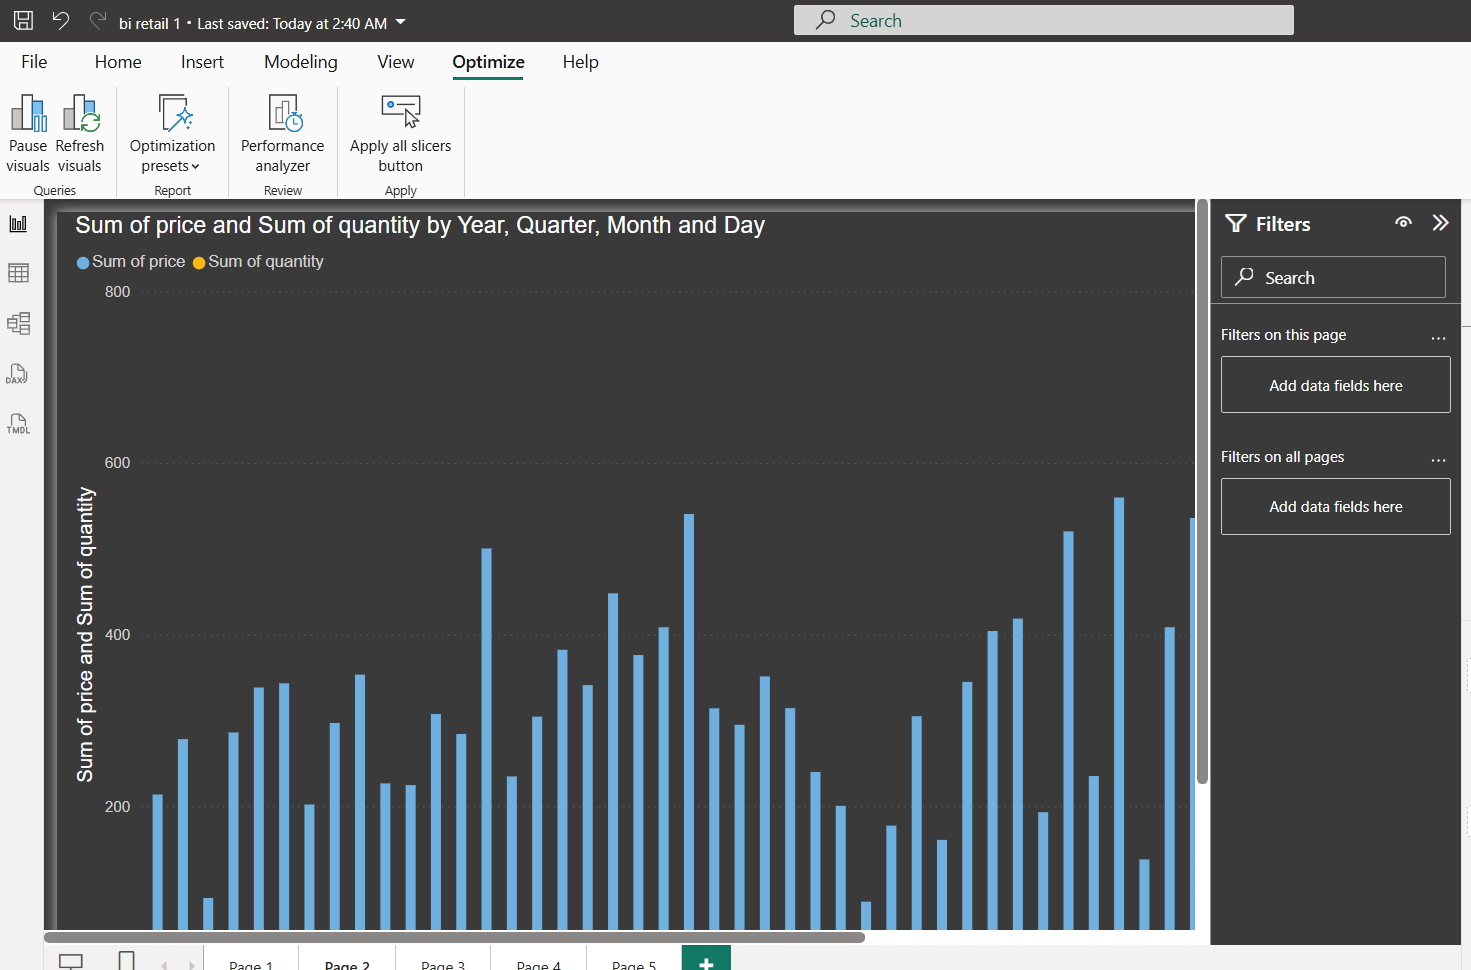

The page's visual inventory and layout, read from the dashboard file:
{"tool":"powerbi","page":{"name":"Page 1","canvas":[1280,720],"ordinal":0},"visuals":[{"type":"columnChart","fields":{"Y":["Sum(run-1752526286075-part-r-00000.price)","Sum(run-1752526286075-part-r-00000.quantity)"],"Category":["run-1752526286075-part-r-00000.country"]},"box":[9.6,0,1270.7,655.9],"z":0}]}

Visuals, with their boxes on the page's 1280x720 design canvas (x1, y1, x2, y2). These are canvas units, not pixel positions in the 1471x970 screenshot, which may show the page scaled, cropped or inside an application window:
columnChart - Sum(run-1752526286075-part-r-00000.price) x Sum(run-1752526286075-part-r-00000.quantity): 10,0,1280,656
